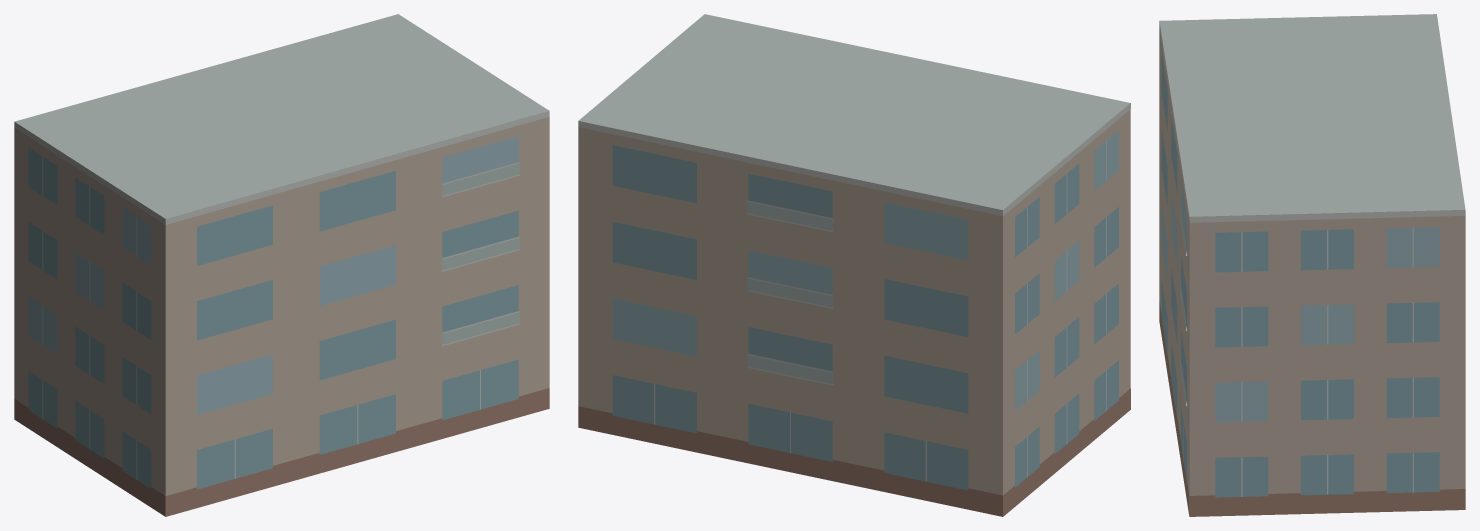
Rendered from survey-upis-32749177.glb.
3 views of the same model, side by side, from view 1: azimuth 30°, elevation 25°; view 2: azimuth 150°, elevation 25°; view 3: azimuth 270°, elevation 25° (orthographic). The views are drawn at different scales.
Parts seen in each view (by area): view 1: survey-upis-32749177.tmp; view 2: survey-upis-32749177.tmp; view 3: survey-upis-32749177.tmp.
Part boxes in pixels (x1,y1,x2,y2): survey-upis-32749177.tmp: (14,14,549,516); survey-upis-32749177.tmp: (578,14,1130,516); survey-upis-32749177.tmp: (1159,14,1465,516).
Bounding box in the file's own units: 17.69 × 12.2 × 11.29.
